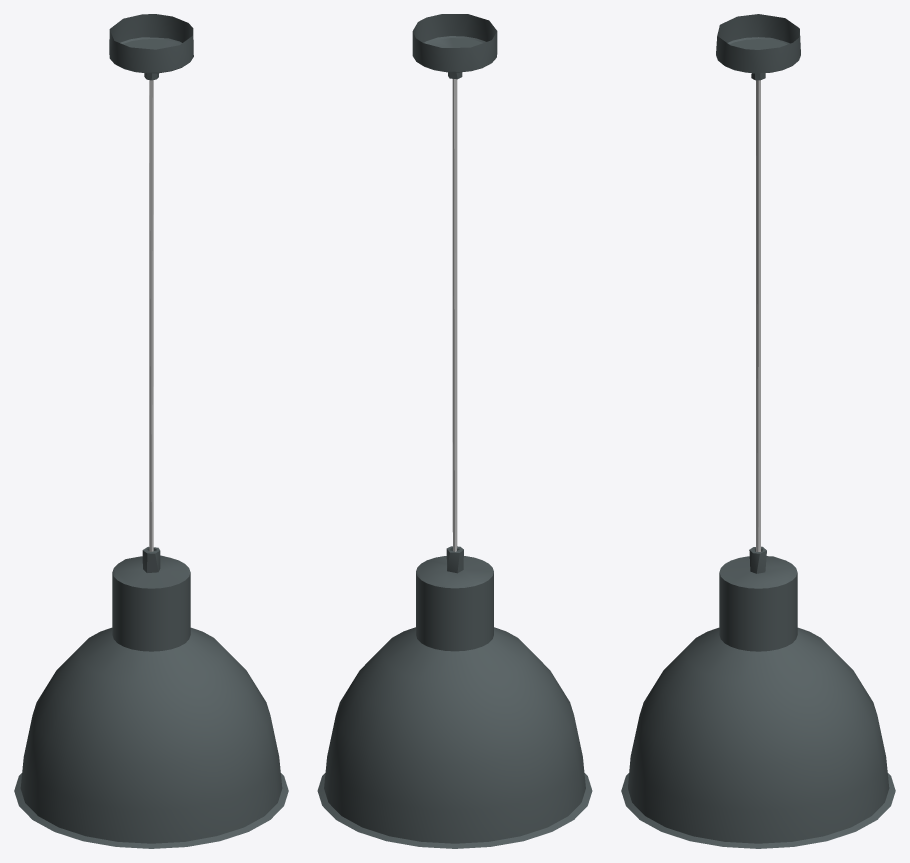
Rendered from SM_Lamp_1.fbx.
The picture shows the model from 3 angles, left to right: view 1: azimuth 30°, elevation 25°; view 2: azimuth 150°, elevation 25°; view 3: azimuth 270°, elevation 25°; orthographic projection.
Visible parts, largest first — view 1: GDLM1275_GDLM1116_mLayer78_258.002, GDLM1275_GDLM1116_mLayer78_258.001, GDLM1224_GDLM957_mLayer193.002; view 2: GDLM1275_GDLM1116_mLayer78_258.002, GDLM1275_GDLM1116_mLayer78_258.001, GDLM1224_GDLM957_mLayer193.002; view 3: GDLM1275_GDLM1116_mLayer78_258.002, GDLM1275_GDLM1116_mLayer78_258.001, GDLM1224_GDLM957_mLayer193.002.
Boxes of the visible parts, box(x1,y1,x2,y2) form: GDLM1275_GDLM1116_mLayer78_258.002: box(14, 546, 288, 848); GDLM1275_GDLM1116_mLayer78_258.001: box(109, 14, 193, 80); GDLM1224_GDLM957_mLayer193.002: box(149, 80, 153, 551); GDLM1275_GDLM1116_mLayer78_258.002: box(317, 546, 592, 848); GDLM1275_GDLM1116_mLayer78_258.001: box(412, 14, 497, 79); GDLM1224_GDLM957_mLayer193.002: box(452, 79, 457, 551); GDLM1275_GDLM1116_mLayer78_258.002: box(621, 546, 895, 848); GDLM1275_GDLM1116_mLayer78_258.001: box(716, 14, 800, 80); GDLM1224_GDLM957_mLayer193.002: box(756, 80, 760, 551).
Bounding box in the file's own units: 0.36 × 1.1 × 0.36.
3 materials, 2 textured.
